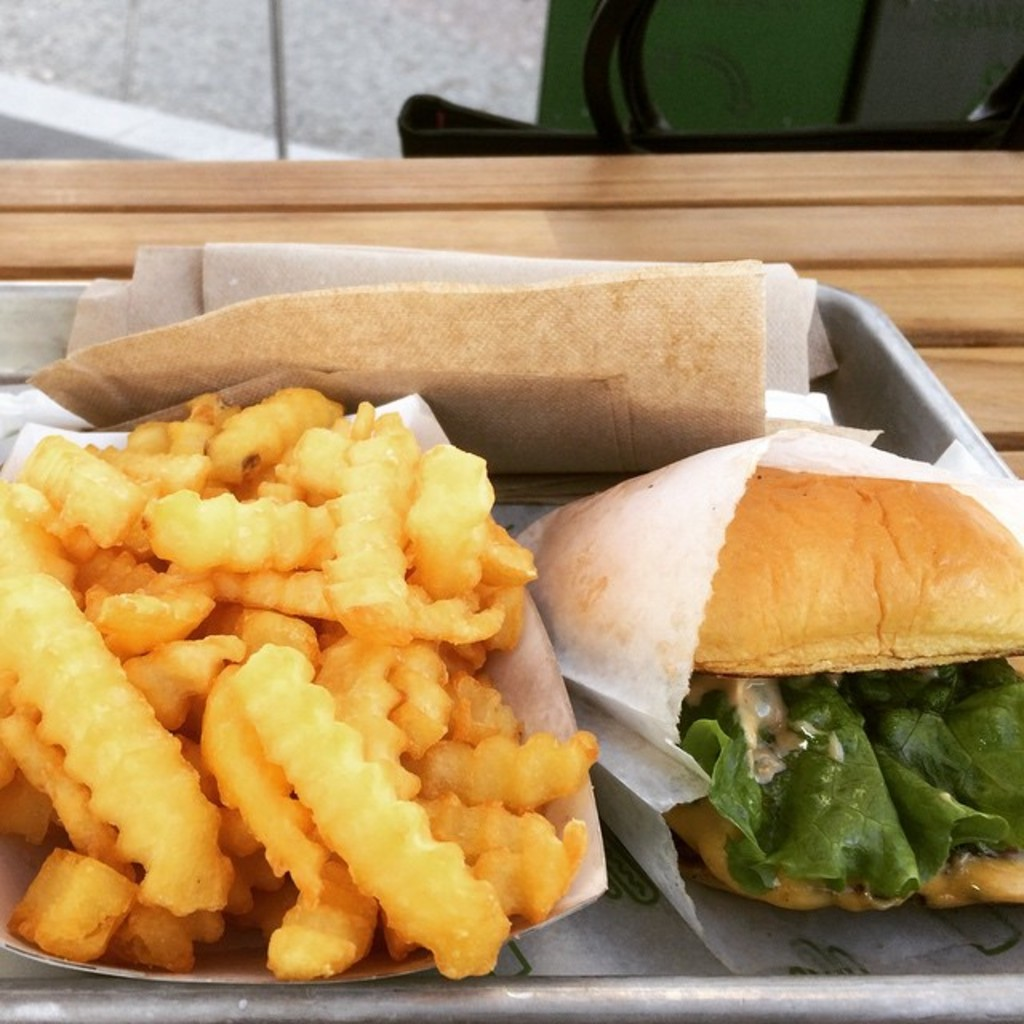French fries: (33, 380, 633, 990)
